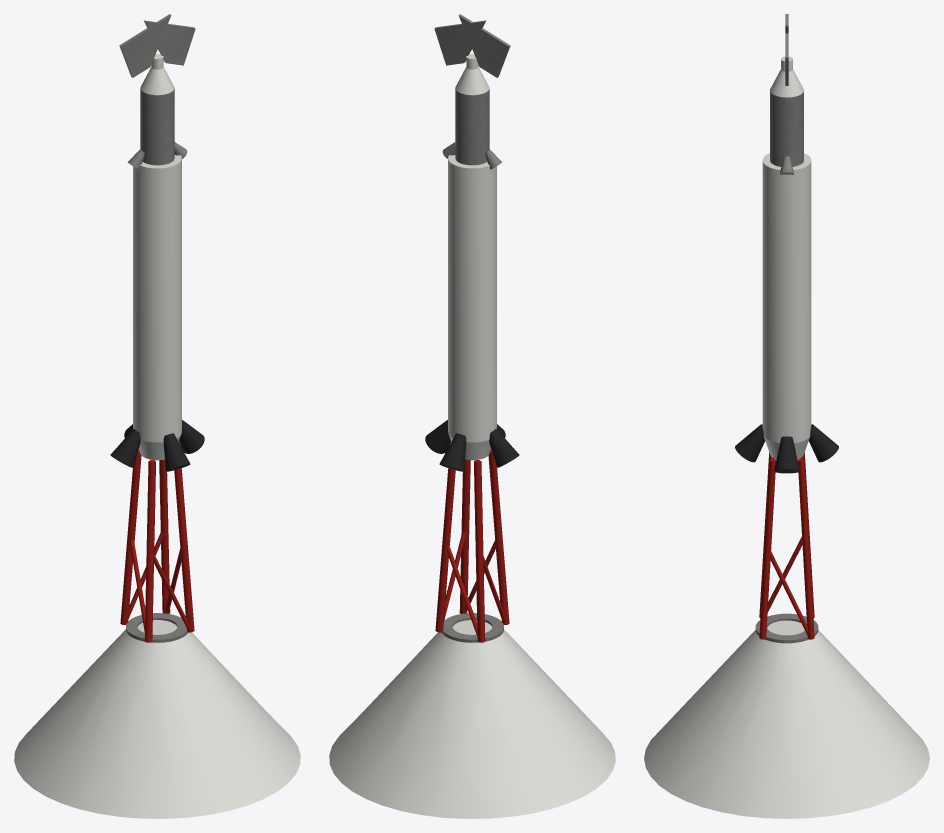
Rendered from prop24_launch_escape_tower_xl.glb.
3 views of the same model, side by side, from view 1: azimuth 30°, elevation 25°; view 2: azimuth 150°, elevation 25°; view 3: azimuth 270°, elevation 25° (orthographic).
Visible parts, largest first — view 1: boost_cover, abort_motor, tower_truss, jettison_motor, abort_nozzles, canard_1, canard_2, docking_ring, nose; view 2: boost_cover, abort_motor, tower_truss, jettison_motor, abort_nozzles, canard_1, canard_2, docking_ring, nose; view 3: boost_cover, abort_motor, tower_truss, jettison_motor, abort_nozzles, docking_ring, nose.
Boxes of the visible parts, box(x1,y1,x2,y2) form: boost_cover: box(14, 620, 300, 818); abort_motor: box(133, 155, 181, 460); tower_truss: box(120, 449, 194, 642); jettison_motor: box(127, 88, 187, 169); abort_nozzles: box(110, 420, 204, 471); canard_1: box(119, 14, 171, 77); canard_2: box(143, 20, 195, 65); docking_ring: box(126, 613, 187, 642); nose: box(140, 54, 174, 95); boost_cover: box(329, 620, 615, 818); abort_motor: box(448, 155, 496, 460); tower_truss: box(435, 449, 509, 642); jettison_motor: box(442, 88, 502, 169); abort_nozzles: box(425, 420, 519, 471); canard_1: box(458, 14, 510, 77); canard_2: box(434, 20, 486, 65); docking_ring: box(442, 613, 503, 642); nose: box(455, 54, 489, 95); boost_cover: box(644, 620, 929, 818); abort_motor: box(762, 153, 811, 459); tower_truss: box(759, 452, 814, 639); jettison_motor: box(770, 91, 803, 174); abort_nozzles: box(735, 424, 838, 473); docking_ring: box(755, 613, 818, 643); nose: box(770, 56, 803, 97).
Bounding box in the file's own units: 5 × 14.24 × 5.
4 materials, 1 textured.
